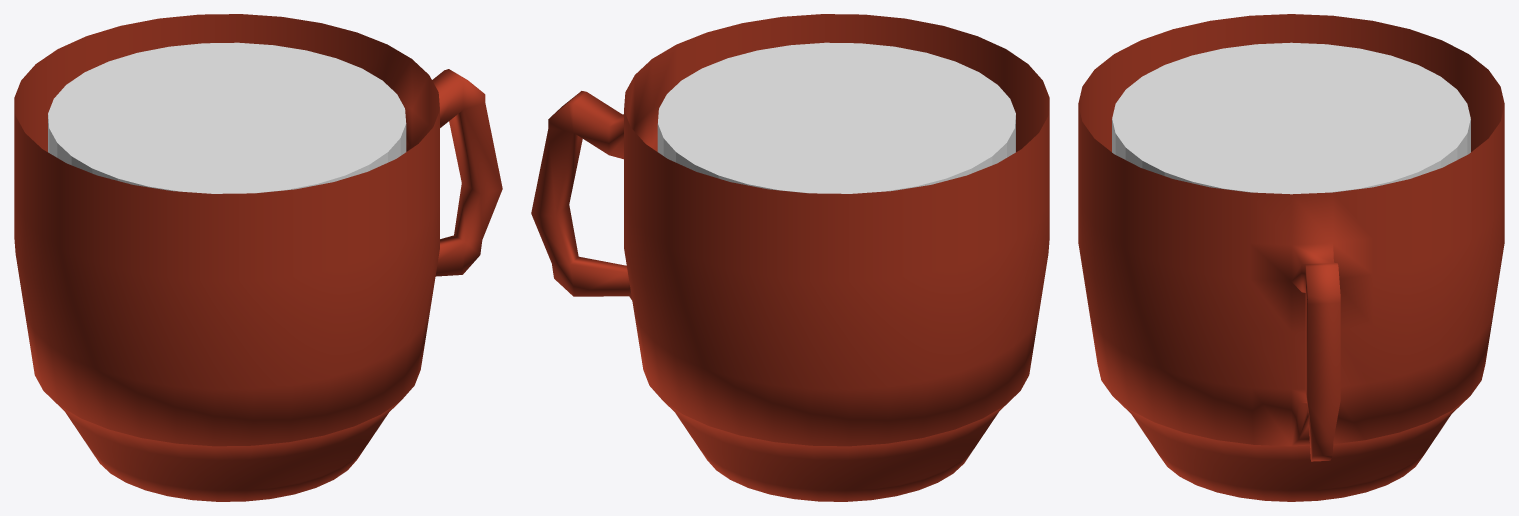
Rendered from coffee.glb.
3 views of the same model, side by side, from view 1: azimuth 30°, elevation 25°; view 2: azimuth 150°, elevation 25°; view 3: azimuth 270°, elevation 25° (orthographic).
Visible parts, largest first — view 1: Circle, Cylinder; view 2: Circle, Cylinder; view 3: Circle, Cylinder.
Boxes of the visible parts, x1,y1,x2,y2 form: Circle: (14, 14, 502, 501); Cylinder: (48, 42, 406, 193); Circle: (531, 14, 1049, 501); Cylinder: (657, 42, 1015, 193); Circle: (1078, 14, 1504, 501); Cylinder: (1112, 42, 1470, 194).
Bounding box in the file's own units: 3.02 × 2.1 × 2.38.
1 material, 1 textured.
